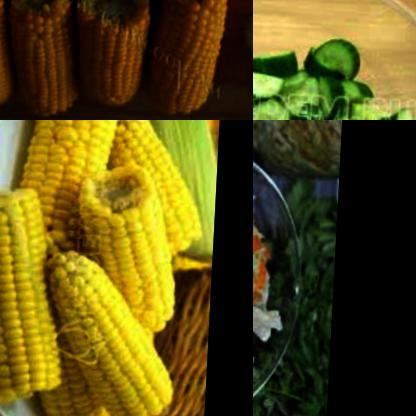cabbage: (253, 157, 291, 405), (253, 120, 347, 187)
carrot: (258, 255, 277, 295), (253, 226, 269, 251)
corn: (46, 249, 188, 416), (76, 160, 196, 338), (0, 171, 71, 410), (102, 120, 220, 255), (25, 120, 126, 257), (141, 0, 238, 114), (8, 0, 81, 120), (42, 317, 123, 416), (77, 0, 152, 106)
cucumber: (253, 19, 409, 120)
